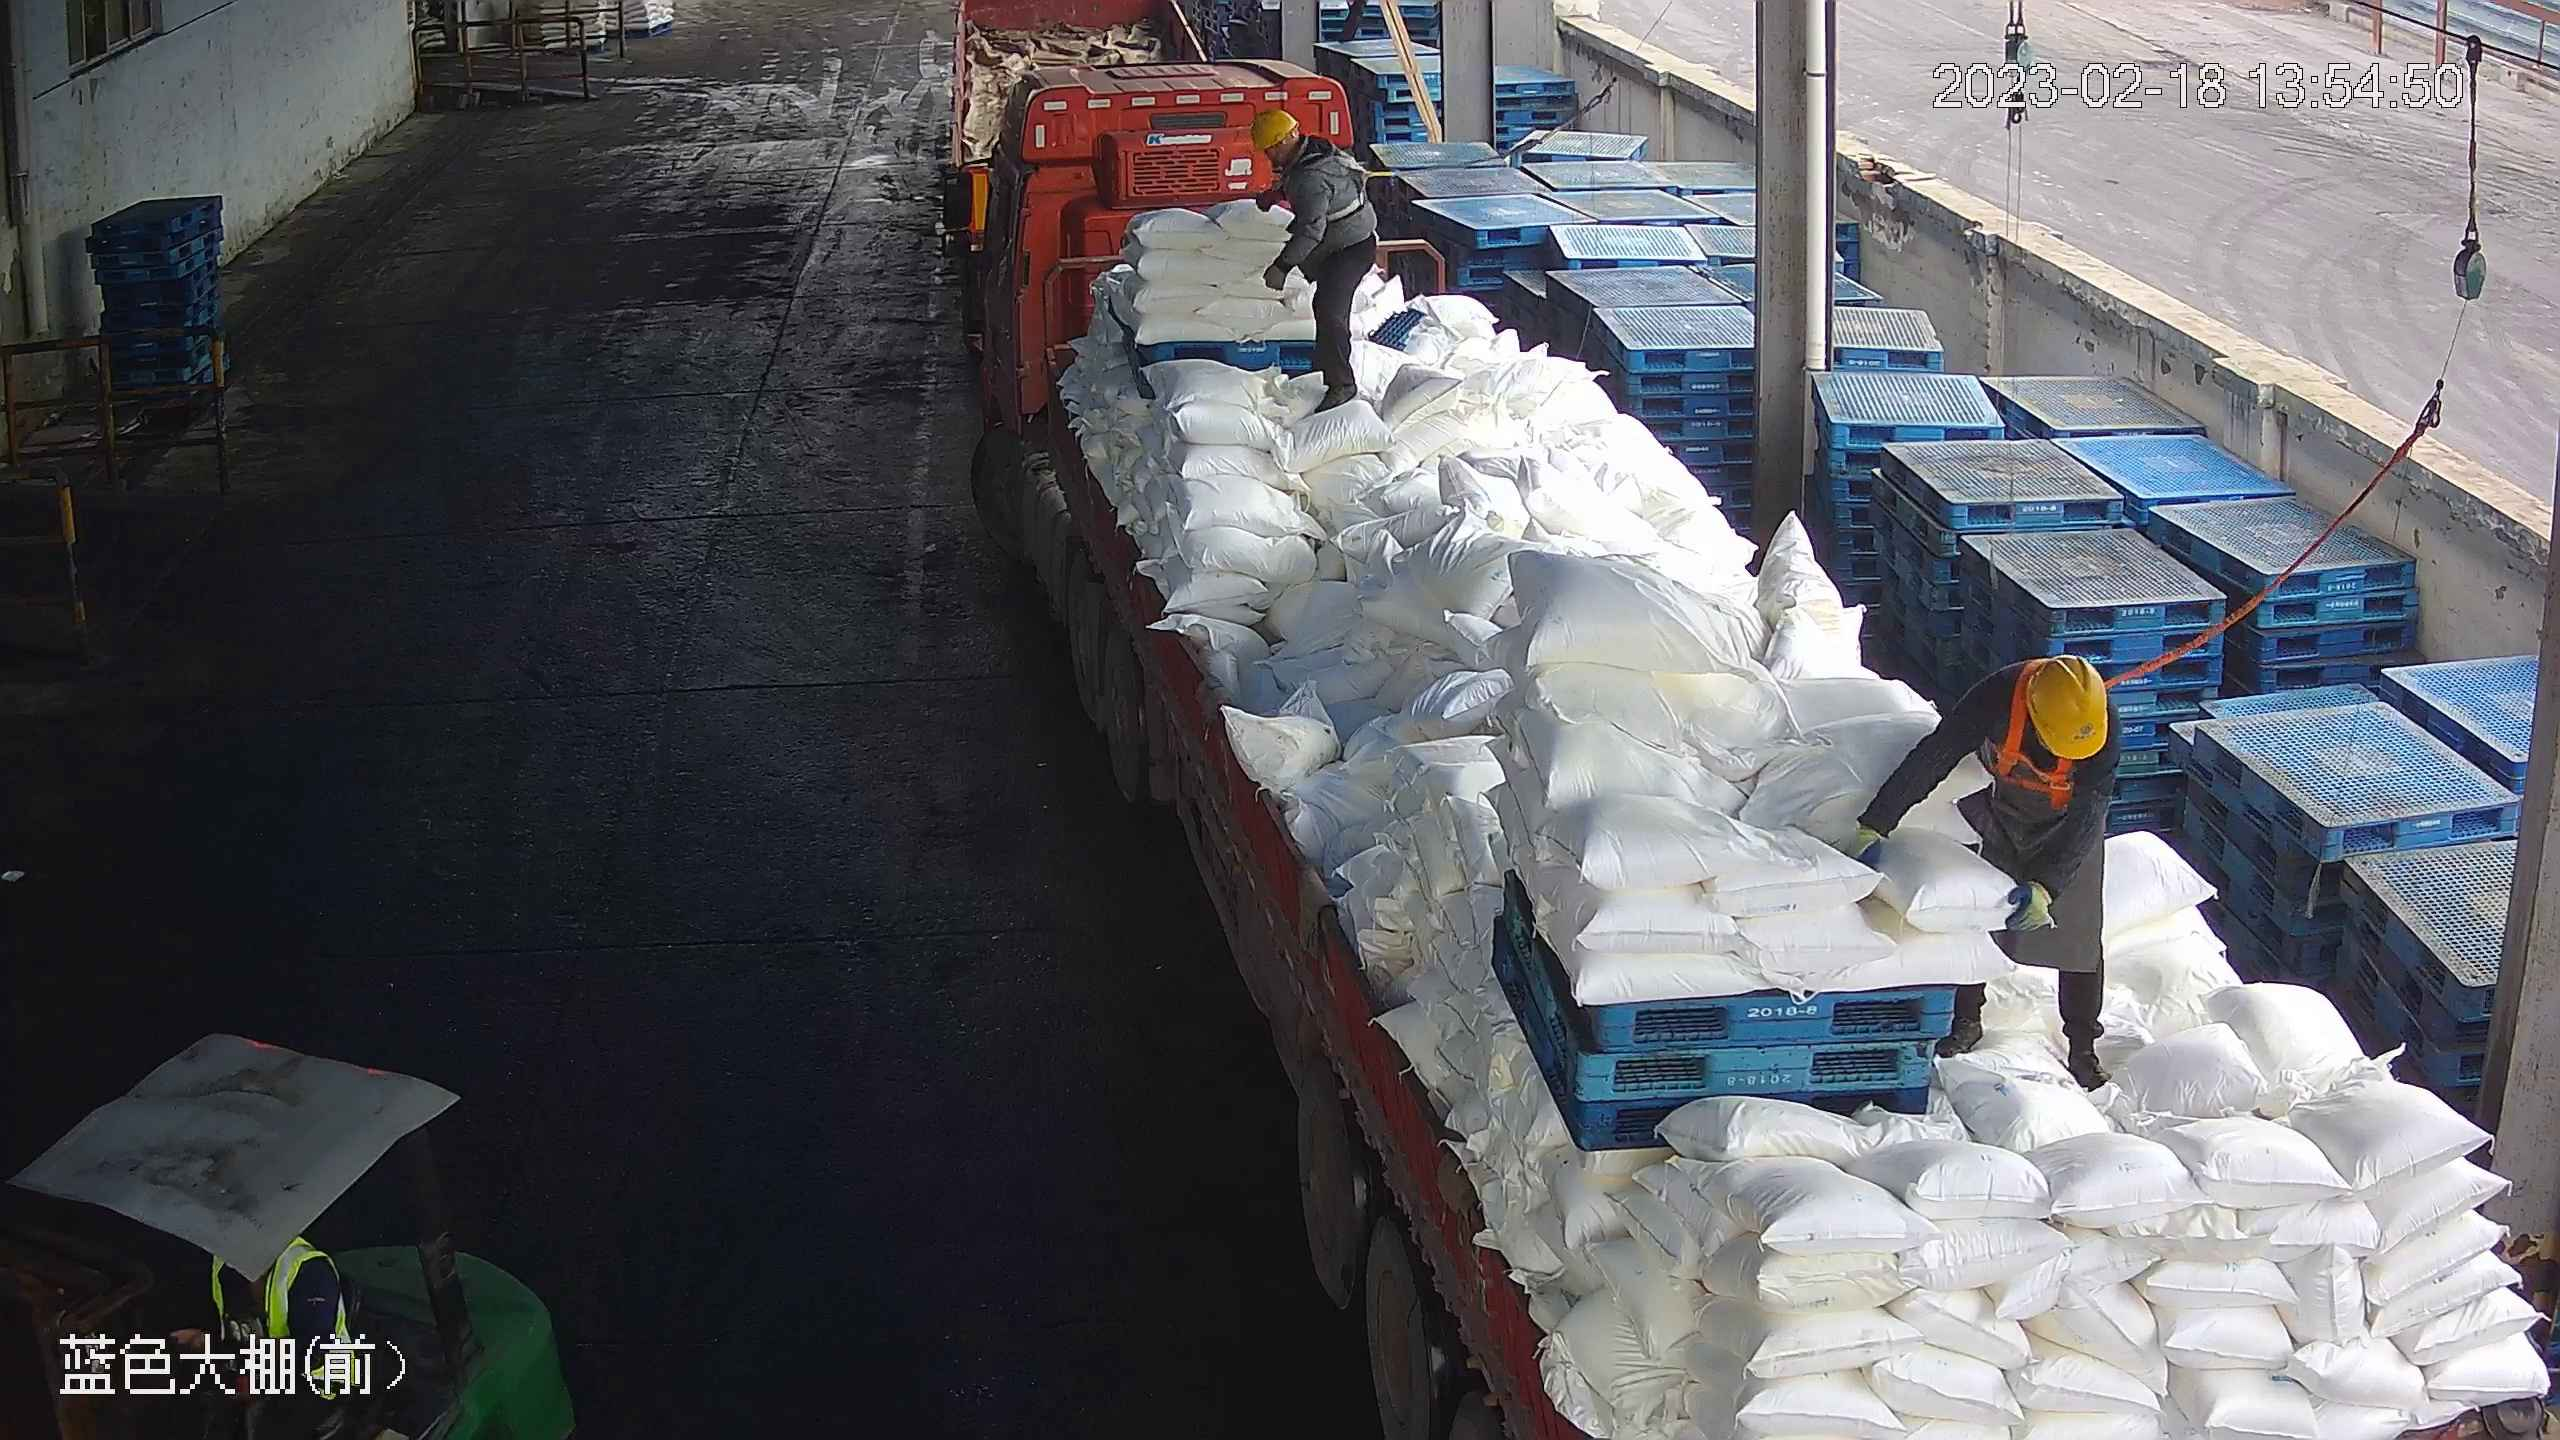belt: (1296, 141, 1378, 218)
head: (1971, 653, 2112, 801), (1248, 107, 1352, 188)
helmet: (2024, 652, 2112, 761), (1247, 107, 1302, 153)
people: (1851, 653, 2123, 1089), (1250, 109, 1380, 408)
truck: (977, 46, 2558, 1440)
